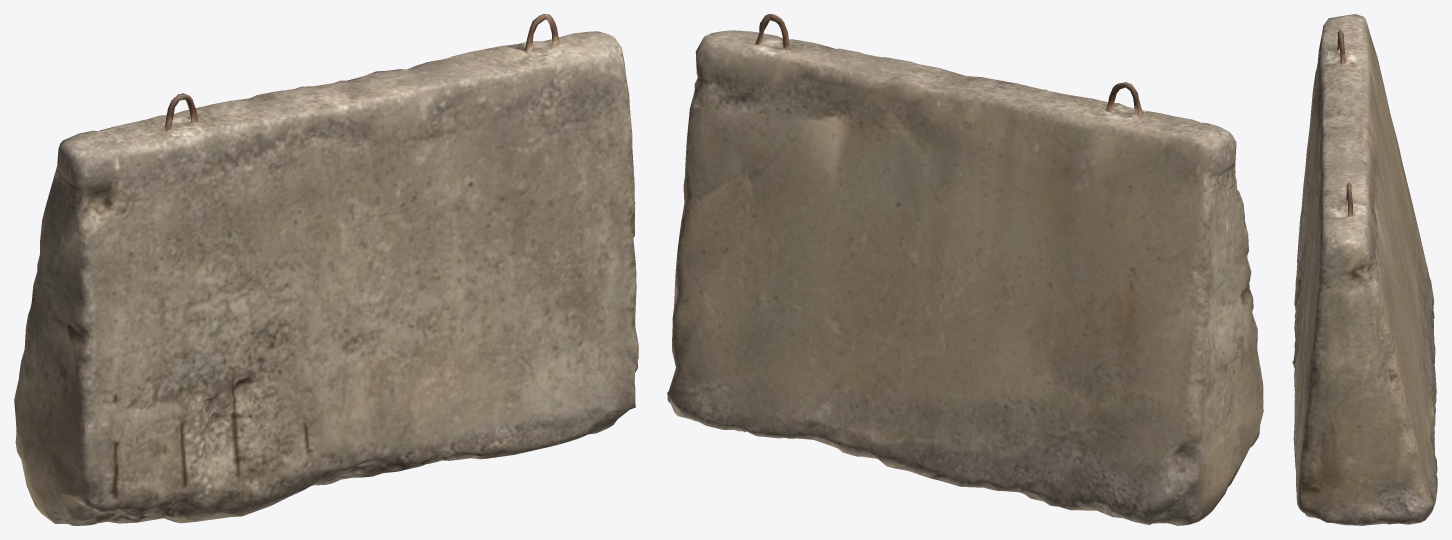
File: concrete_road_barrier_02.glb
3 renders of one model, left to right at view 1: azimuth 30°, elevation 25°; view 2: azimuth 150°, elevation 25°; view 3: azimuth 270°, elevation 25°, orthographic. The views are drawn at different scales.
Parts seen in each view (by area): view 1: concrete_road_barrier_02; view 2: concrete_road_barrier_02; view 3: concrete_road_barrier_02.
Part boxes in pixels (box(x1,y1,x2,y2)): concrete_road_barrier_02: box(14, 14, 638, 525); concrete_road_barrier_02: box(667, 14, 1263, 525); concrete_road_barrier_02: box(1292, 14, 1437, 525).
Size of the model in its own units: 1.56 by 1.11 by 0.4422.
1 material, 1 textured.
